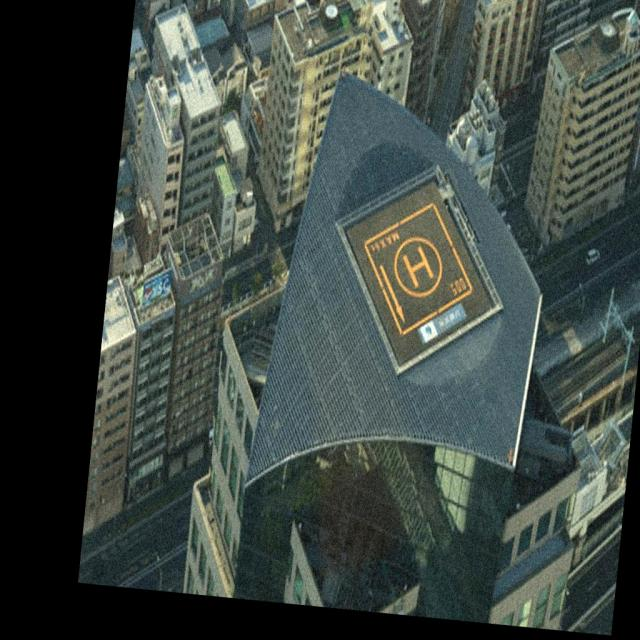helipad: (391, 233, 444, 299)
